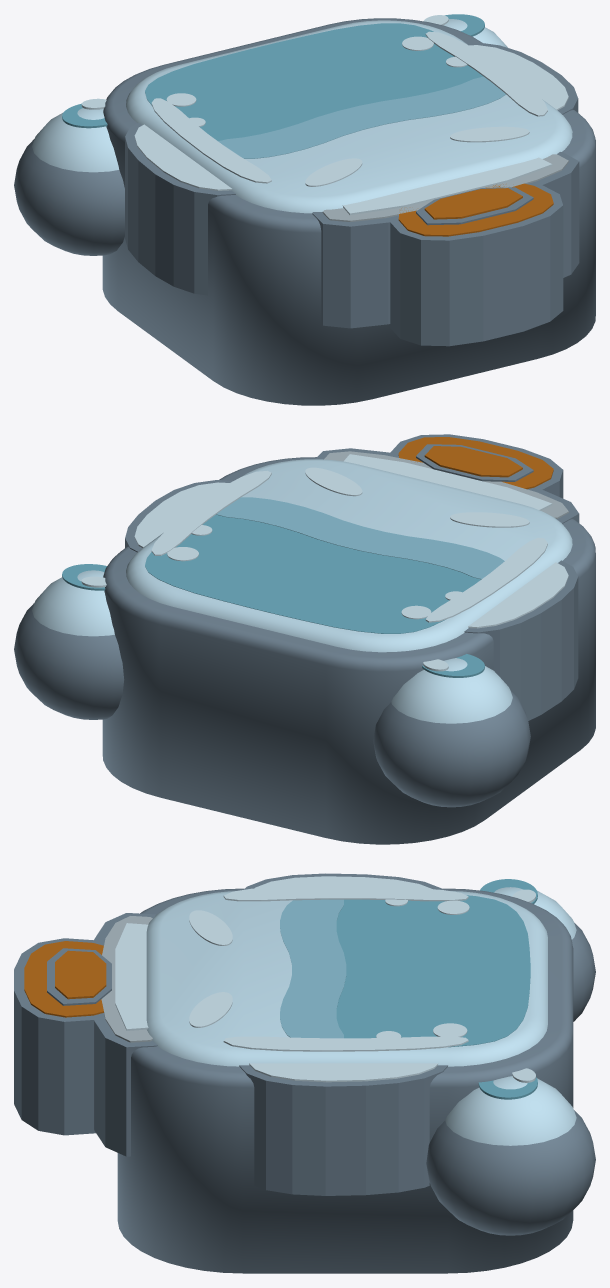
File: body_jarra_vidro.fbx
3 views of the same model, one above another, from view 1: azimuth 30°, elevation 25°; view 2: azimuth 150°, elevation 25°; view 3: azimuth 270°, elevation 25° (orthographic). The views are drawn at different scales.
Parts seen in each view (by area): view 1: body_jarra_vidro_corpo, body_jarra_vidro_mao_esq, body_jarra_vidro_mao; view 2: body_jarra_vidro_corpo, body_jarra_vidro_mao_esq, body_jarra_vidro_mao; view 3: body_jarra_vidro_corpo, body_jarra_vidro_mao, body_jarra_vidro_mao_esq.
Boxes of the visible parts, box(x1,y1,x2,y2) form: body_jarra_vidro_corpo: box(102, 18, 595, 405); body_jarra_vidro_mao_esq: box(14, 98, 124, 255); body_jarra_vidro_mao: box(424, 14, 507, 47); body_jarra_vidro_corpo: box(102, 434, 595, 844); body_jarra_vidro_mao_esq: box(373, 654, 530, 807); body_jarra_vidro_mao: box(14, 564, 124, 719); body_jarra_vidro_corpo: box(14, 873, 573, 1273); body_jarra_vidro_mao: box(426, 1068, 595, 1235); body_jarra_vidro_mao_esq: box(480, 879, 595, 1021).
Size of the model in its own units: 5.4 by 2.02 by 5.11.
Materials: 1 (1 with a texture image).
